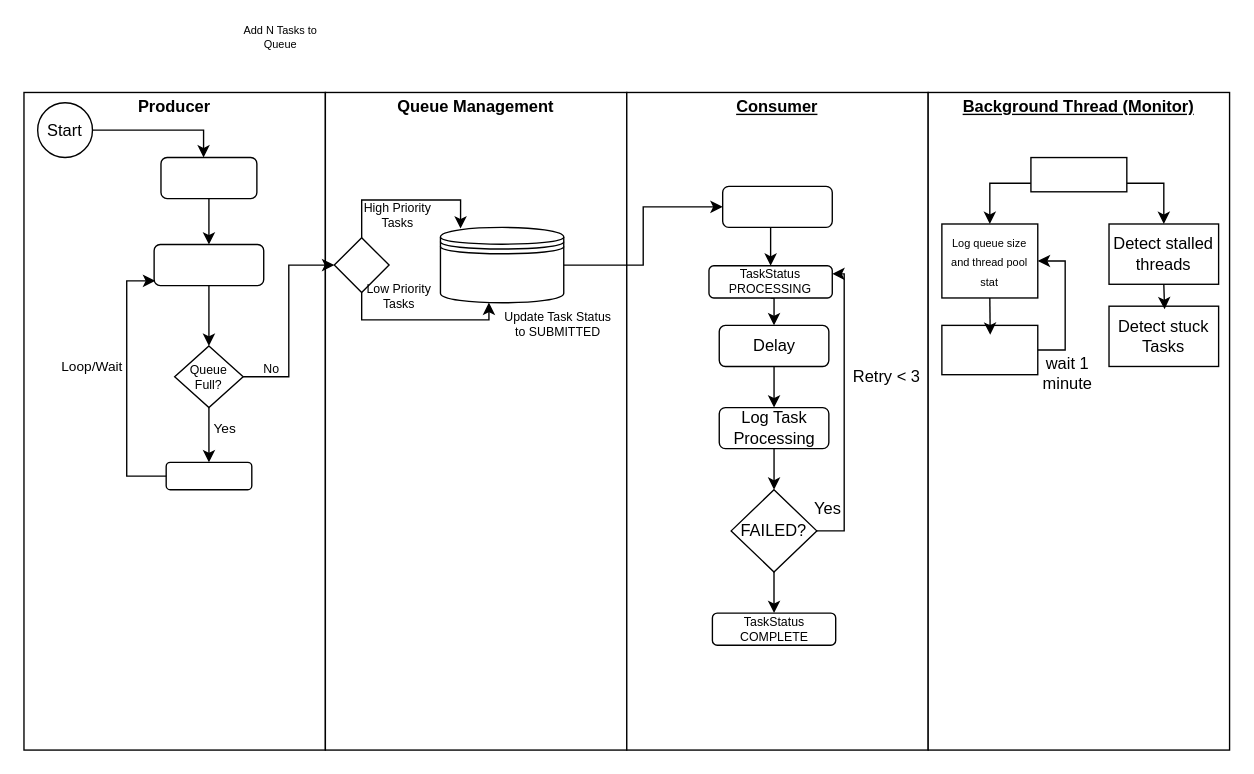
Image size: 1254x774. Some labels were removed from this diagram. Each missing label, with the box of its shape:
Block: (165, 461, 252, 490)
Export to JSON: (941, 324, 1038, 375)
Fetch Tasks: (721, 185, 832, 227)
Generate N Tasks: (153, 243, 264, 286)
Monitor: (1030, 156, 1127, 192)
Shared Task Queue: (439, 226, 564, 303)
Wait 5 seconds: (160, 156, 257, 199)
